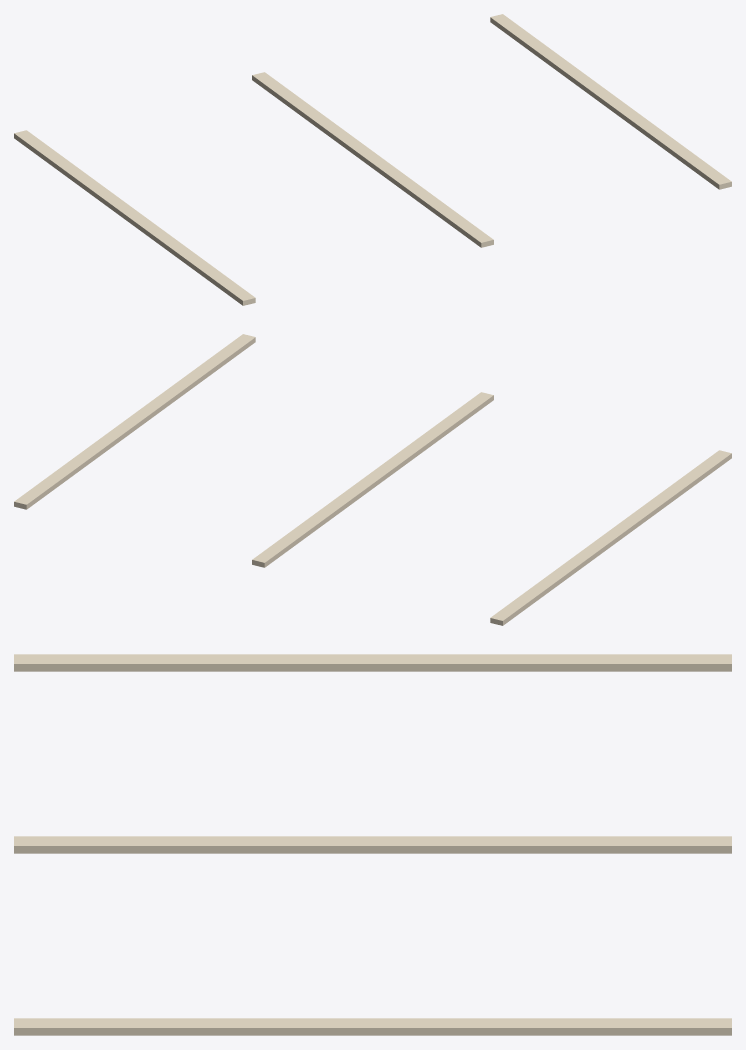
Rendered from scooter_parking.glb.
3 views of the same model, one above another, from view 1: azimuth 30°, elevation 25°; view 2: azimuth 150°, elevation 25°; view 3: azimuth 270°, elevation 25° (orthographic). The views are drawn at different scales.
Visible parts, largest first — view 1: _MeshInstance3D_422, _MeshInstance3D_423, _MeshInstance3D_424; view 2: _MeshInstance3D_422, _MeshInstance3D_423, _MeshInstance3D_424; view 3: _MeshInstance3D_422, _MeshInstance3D_423, _MeshInstance3D_424.
Boxes of the visible parts, x1=… form: _MeshInstance3D_422: x1=14, y1=130, x2=255, y2=305; _MeshInstance3D_423: x1=252, y1=72, x2=493, y2=247; _MeshInstance3D_424: x1=490, y1=14, x2=731, y2=189; _MeshInstance3D_422: x1=490, y1=450, x2=731, y2=625; _MeshInstance3D_423: x1=252, y1=392, x2=493, y2=567; _MeshInstance3D_424: x1=14, y1=334, x2=255, y2=509; _MeshInstance3D_422: x1=14, y1=654, x2=731, y2=671; _MeshInstance3D_423: x1=14, y1=836, x2=731, y2=853; _MeshInstance3D_424: x1=14, y1=1018, x2=731, y2=1035.
Size of the model in its own units: 3.08 by 0.03 by 2.5.
